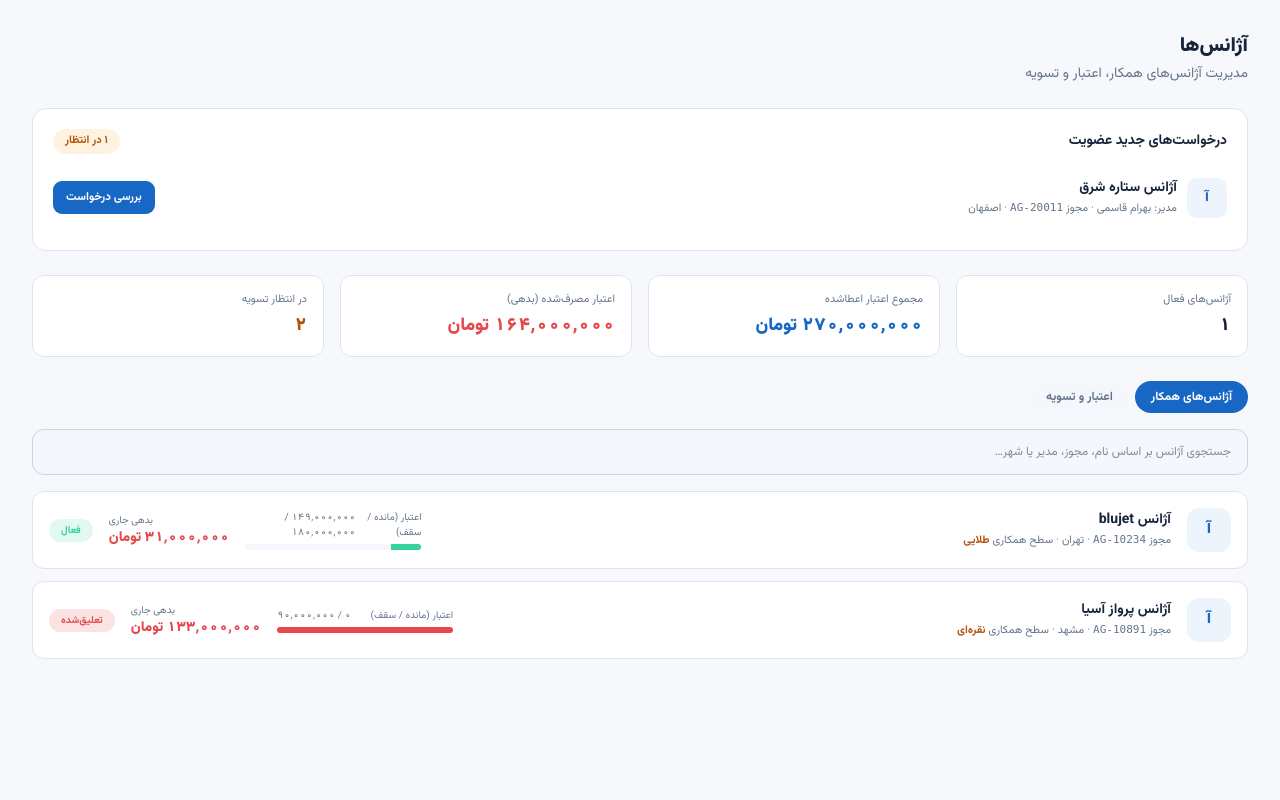
AgenciesListPage › credit sub-tab shows settle buttons and settles an agency
This screenshot has width=1280, height=800.
Check: the text "آژانس blujet" is shown, box [1099, 509, 1171, 531]
Step 1. Click the button "اعتبار و تسویه" → point(1079, 397), box [1030, 381, 1129, 413]
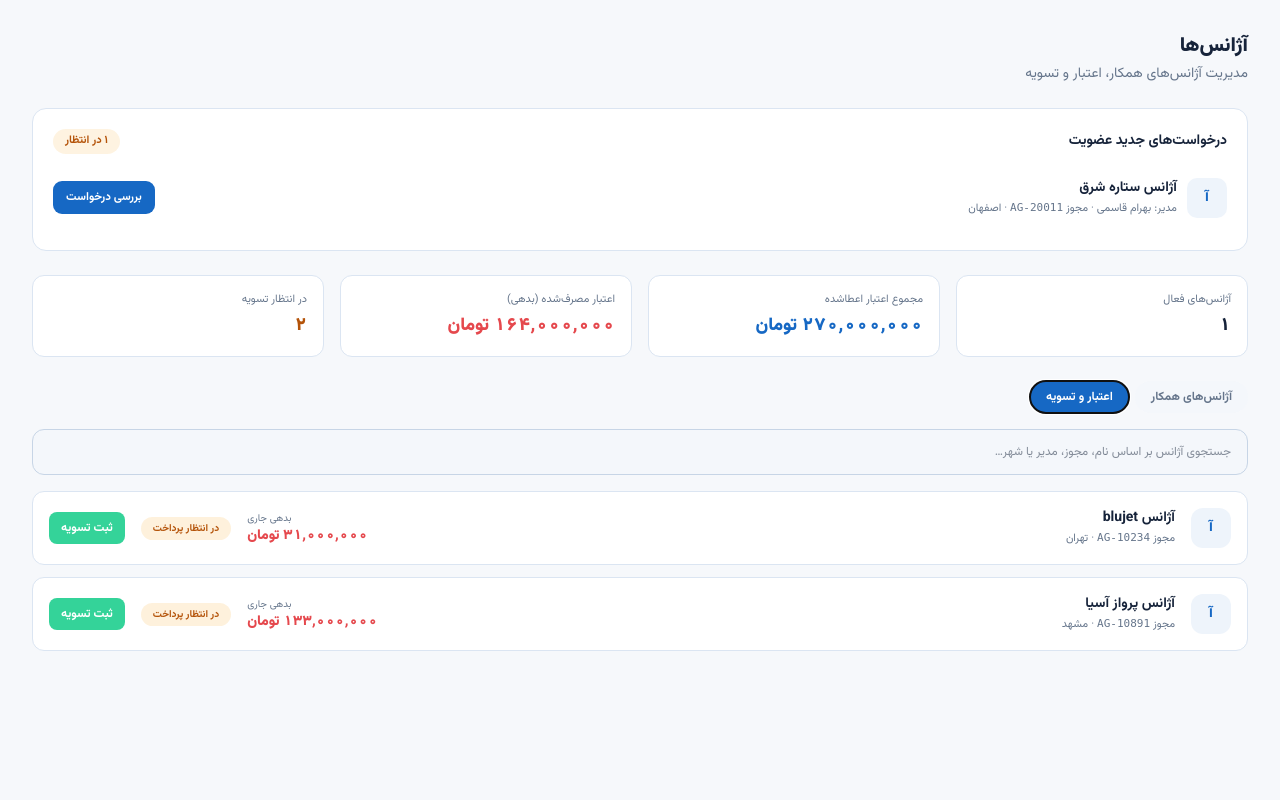
Check: the button "ثبت تسویه" in the row of "آژانس blujet" is shown
Step 2. Click the button "ثبت تسویه" in the row of "آژانس blujet" → point(87, 528), box [49, 512, 125, 544]
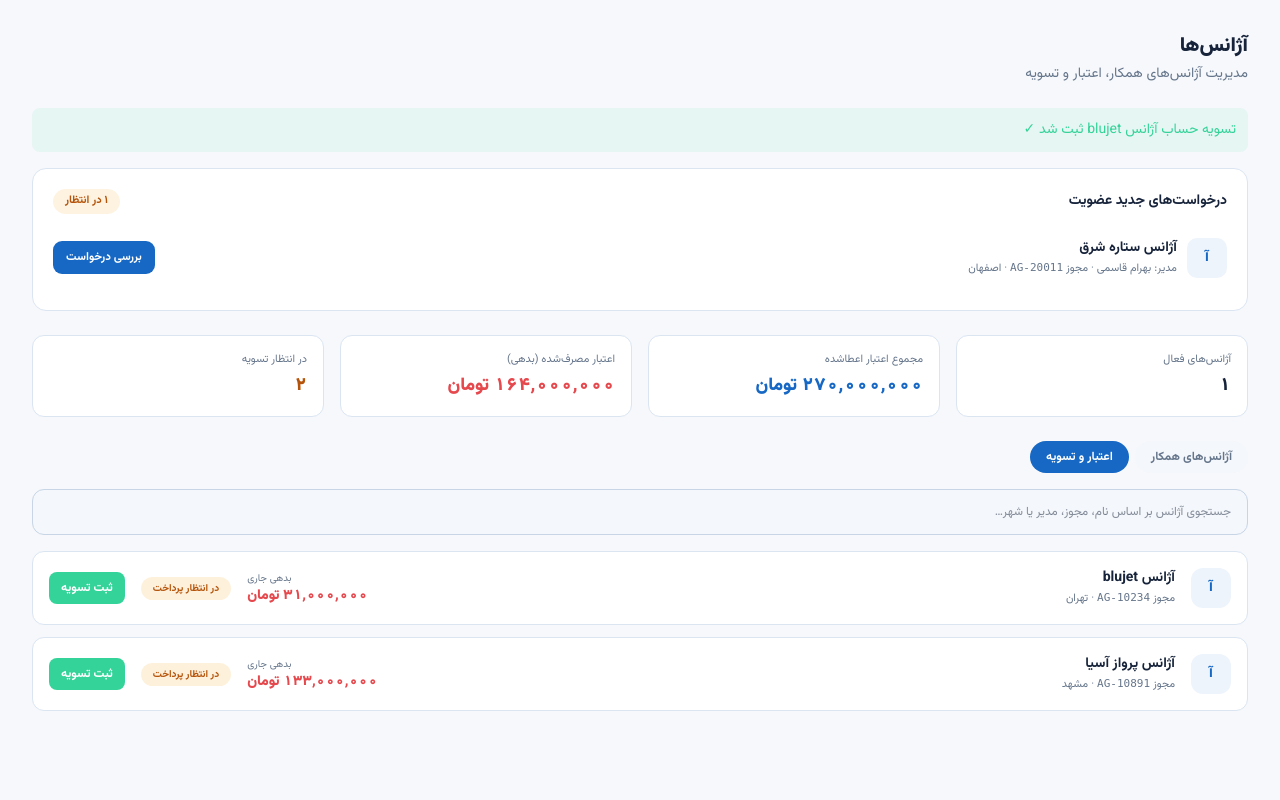
Check: the text "تسویه حساب آژانس blujet ثبت شد ✓" is shown, box [32, 108, 1248, 152]
